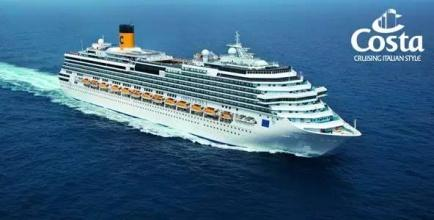youlun: (52, 17, 362, 155)
